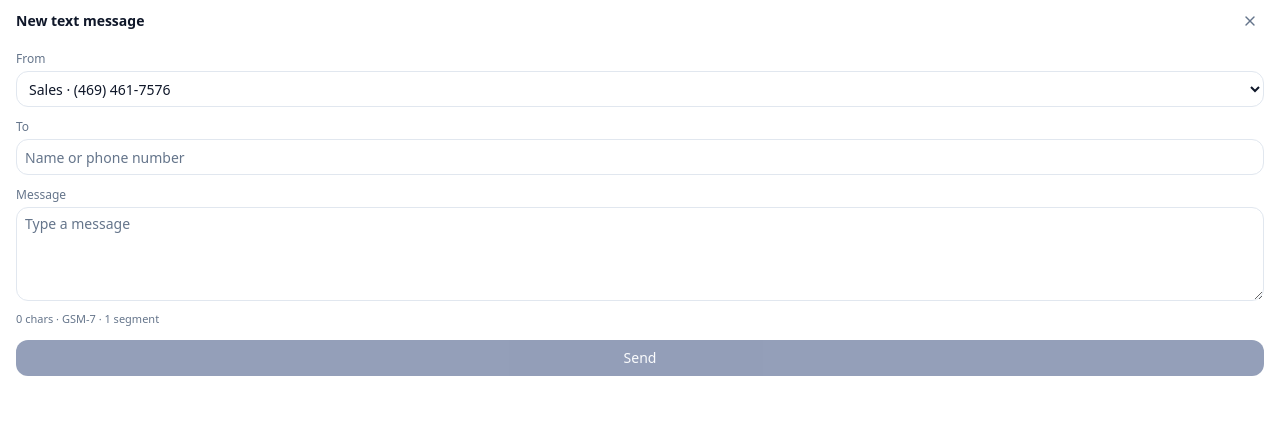
Test case: NewConversationPanel › shows an inline error when the send fails
The image size is (1280, 421).
Type "9725550100" into the dropdown labelled "To" at (640, 157), box [16,139,1264,175]
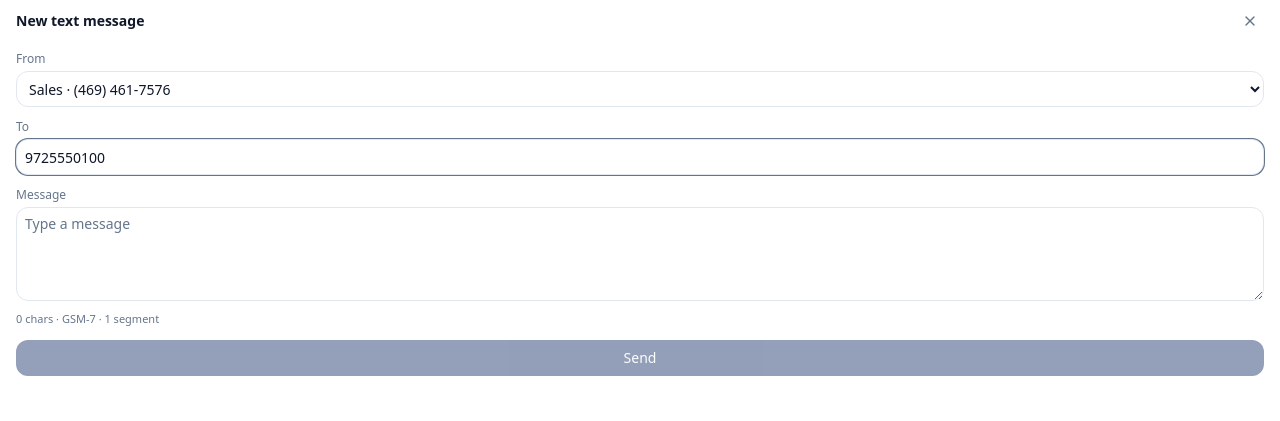
Type "hi" into the text box labelled "Message" at (640, 254), box [16,207,1264,301]
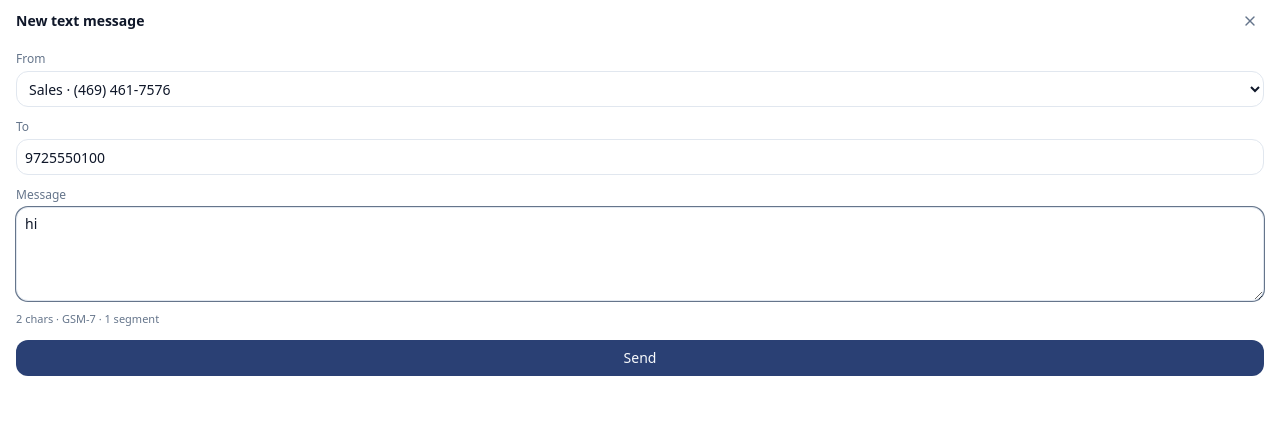
Click the button "Send" at (640, 358), box [16,340,1264,376]
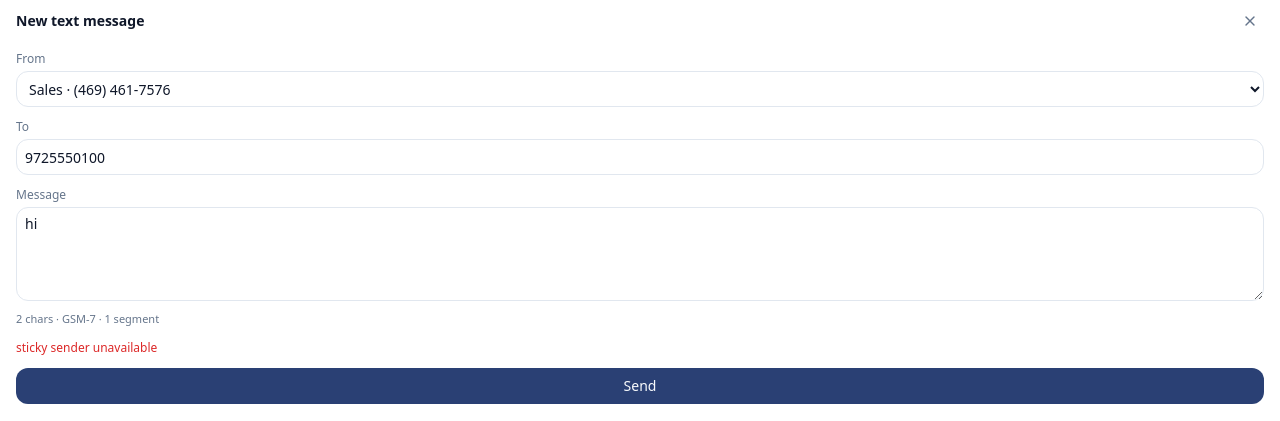
Check: the message reads "sticky sender unavailable", box [16,338,157,356]
